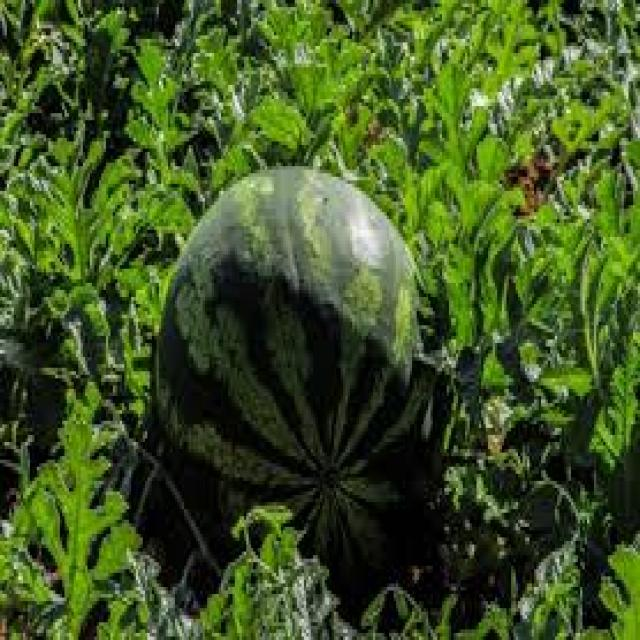Organik: (152, 164, 440, 570)
